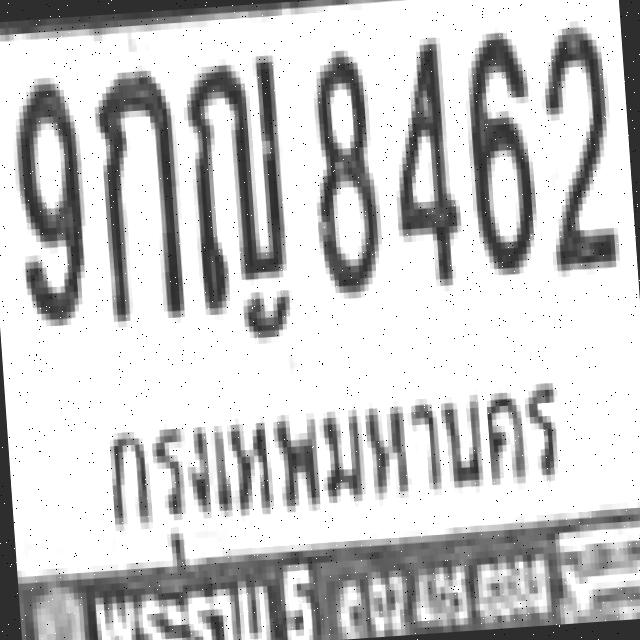10GorGai: (92, 62, 185, 316)
2: (536, 19, 616, 264)
22YorYing: (182, 49, 292, 308)
4: (384, 30, 460, 282)
6: (460, 24, 536, 270)
8: (303, 42, 383, 294)
9: (8, 76, 88, 320)
Bangkok: (94, 372, 576, 560)
